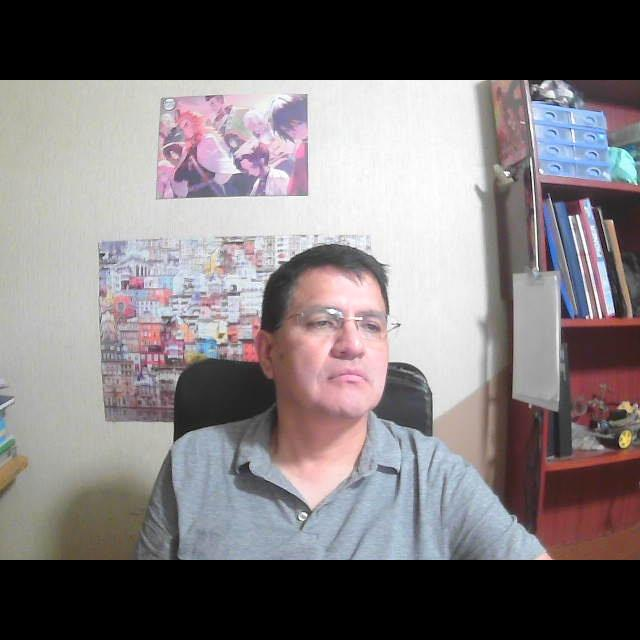cesar: (250, 233, 414, 445)
